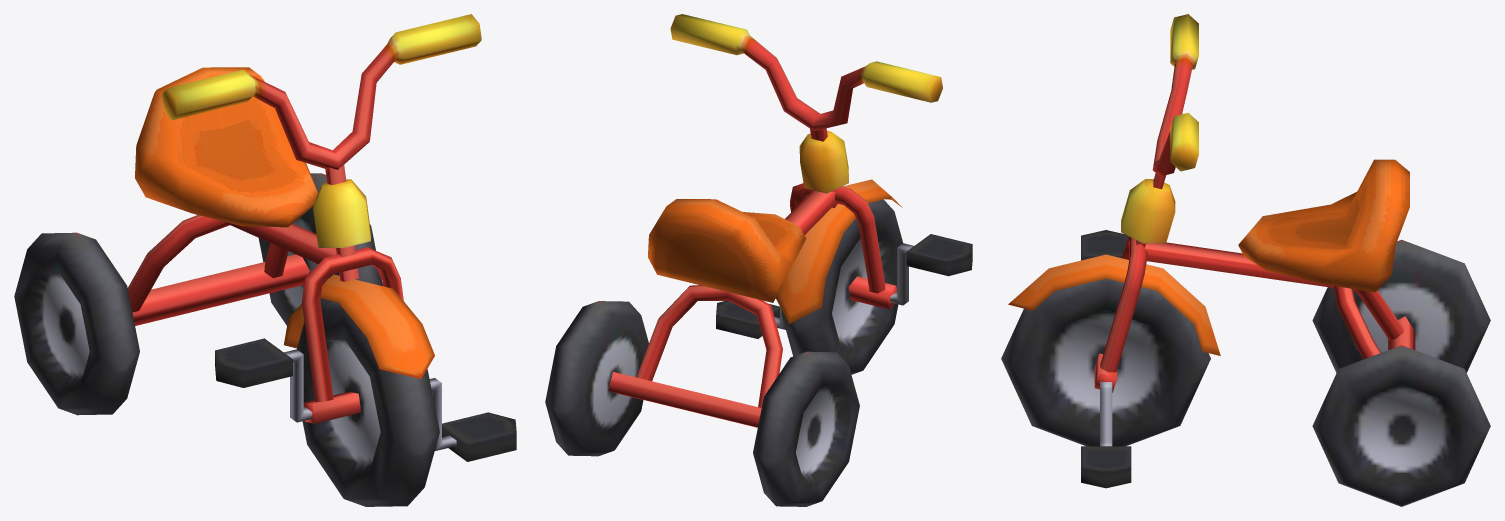
Rendered from int_oth_tricycle.dae.
3 renders of one model, left to right at view 1: azimuth 30°, elevation 25°; view 2: azimuth 150°, elevation 25°; view 3: azimuth 270°, elevation 25°, orthographic. The views are drawn at different scales.
Parts seen in each view (by area): view 1: int_oth_tricycle; view 2: int_oth_tricycle; view 3: int_oth_tricycle.
Part boxes in pixels (x1,y1,x2,y2): int_oth_tricycle: [14, 14, 516, 506]; int_oth_tricycle: [545, 14, 972, 506]; int_oth_tricycle: [1001, 14, 1490, 506].
Bounding box in the file's own units: 20.02 × 26.57 × 31.49.
Materials: 2 (2 with a texture image).
